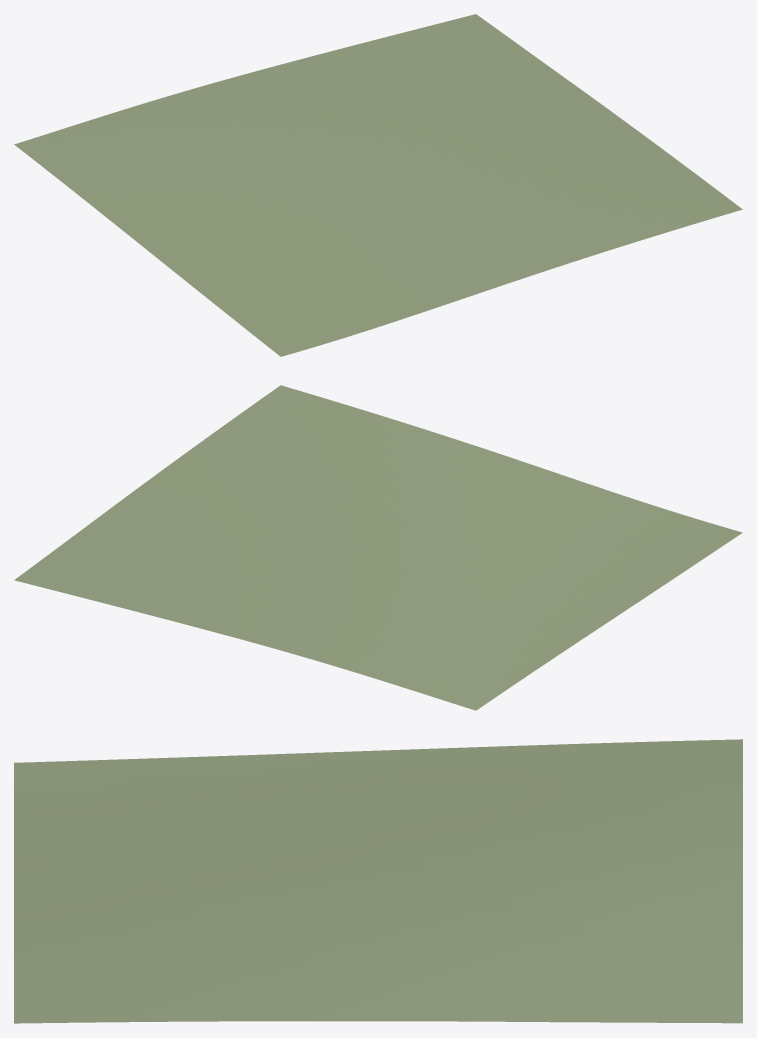
File: desert-10-18.glb
3 renders of one model, top to bottom at view 1: azimuth 30°, elevation 25°; view 2: azimuth 150°, elevation 25°; view 3: azimuth 270°, elevation 25°, orthographic. The views are drawn at different scales.
Visible parts, largest first — view 1: desert-10-18; view 2: desert-10-18; view 3: desert-10-18.
Part boxes in pixels (x1=…): desert-10-18: x1=14, y1=14, x2=742, y2=356; desert-10-18: x1=14, y1=385, x2=742, y2=710; desert-10-18: x1=14, y1=739, x2=742, y2=1023.
Bounding box in the file's own units: 512 × 38.56 × 512.
